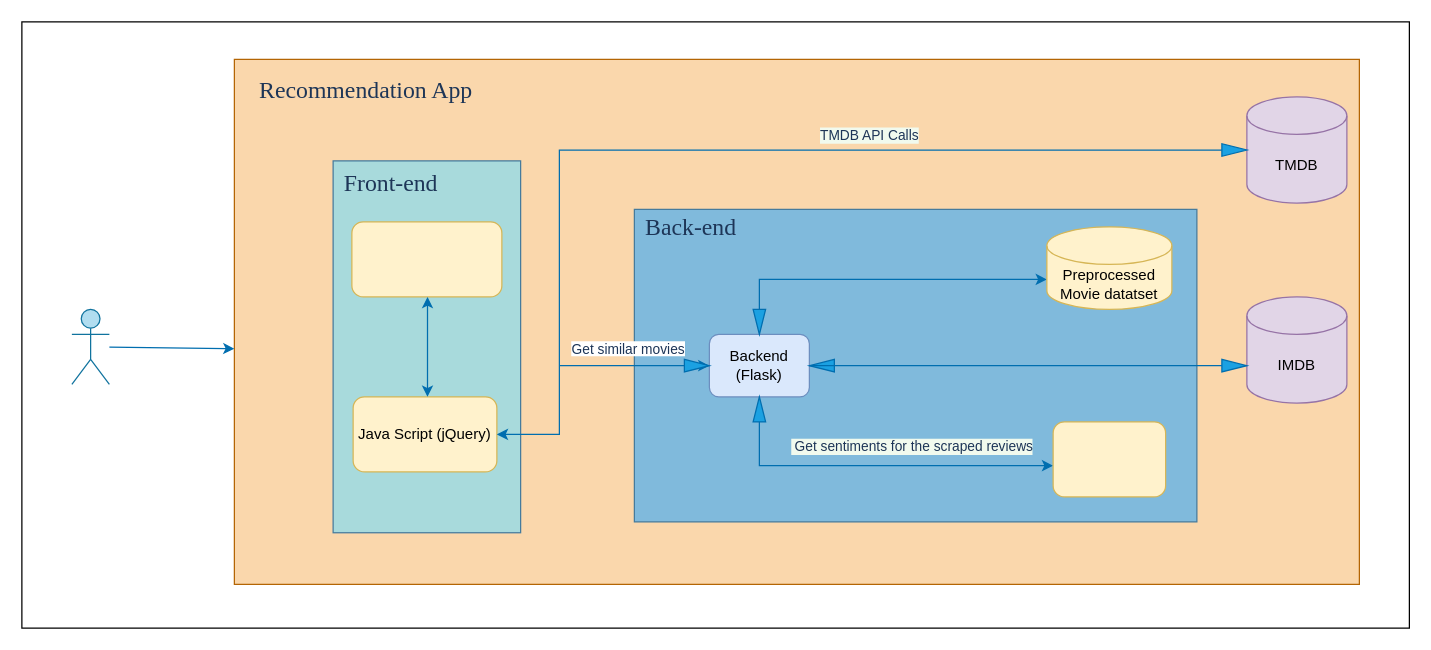
This 1431x650 diagram has some shape labels left out. Here are the shapes that lost their labels. From the top down, the box of each, then its label:
(351, 221, 502, 297): HTML/CSS
(71, 308, 109, 384): End User
(1052, 421, 1166, 497): Sentiment Analysis model (Naive Bayes)
